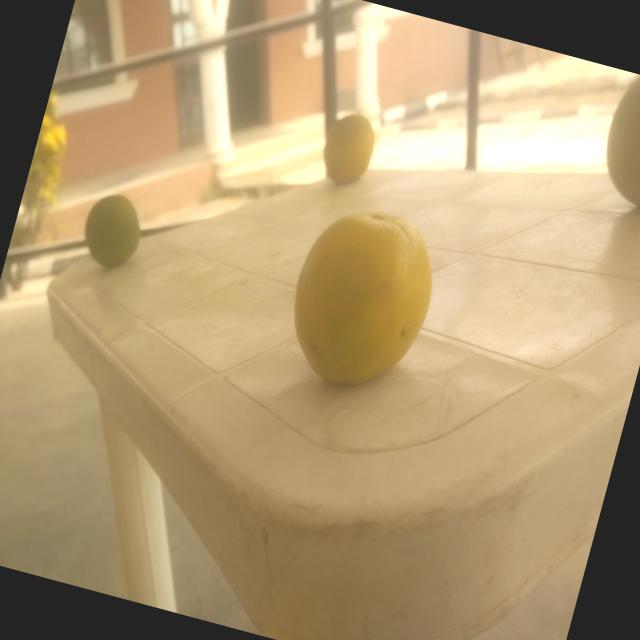Ripe orange: (268, 194, 450, 411), (588, 70, 640, 224), (310, 99, 382, 202)
Unripe: (76, 186, 150, 286)
